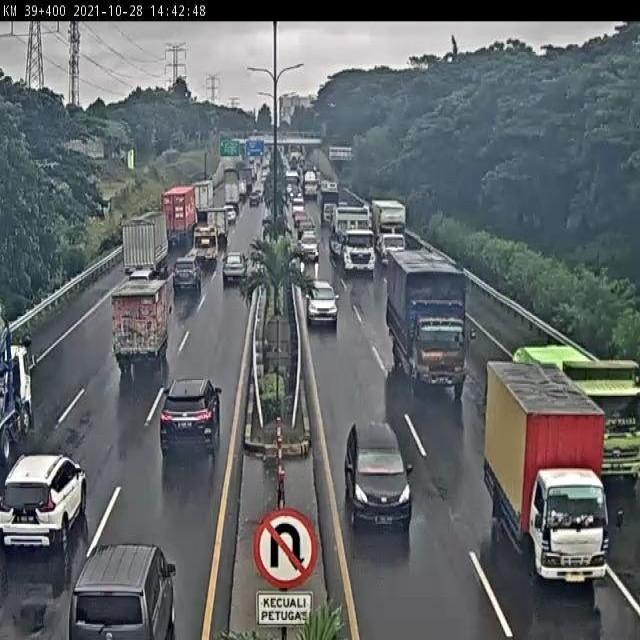big truck: (0, 287, 48, 489)
car: (66, 542, 178, 640), (0, 452, 84, 549), (346, 420, 412, 529), (160, 376, 220, 456), (306, 276, 337, 327), (170, 255, 200, 292), (221, 247, 247, 281), (298, 231, 320, 261)
mid truck: (191, 225, 219, 258)
truck-l-: (518, 331, 640, 484), (384, 250, 468, 398), (372, 199, 406, 261)
truck-m-: (486, 364, 611, 584), (111, 276, 171, 375), (121, 209, 170, 272)
truck-xl-: (331, 206, 376, 270)
